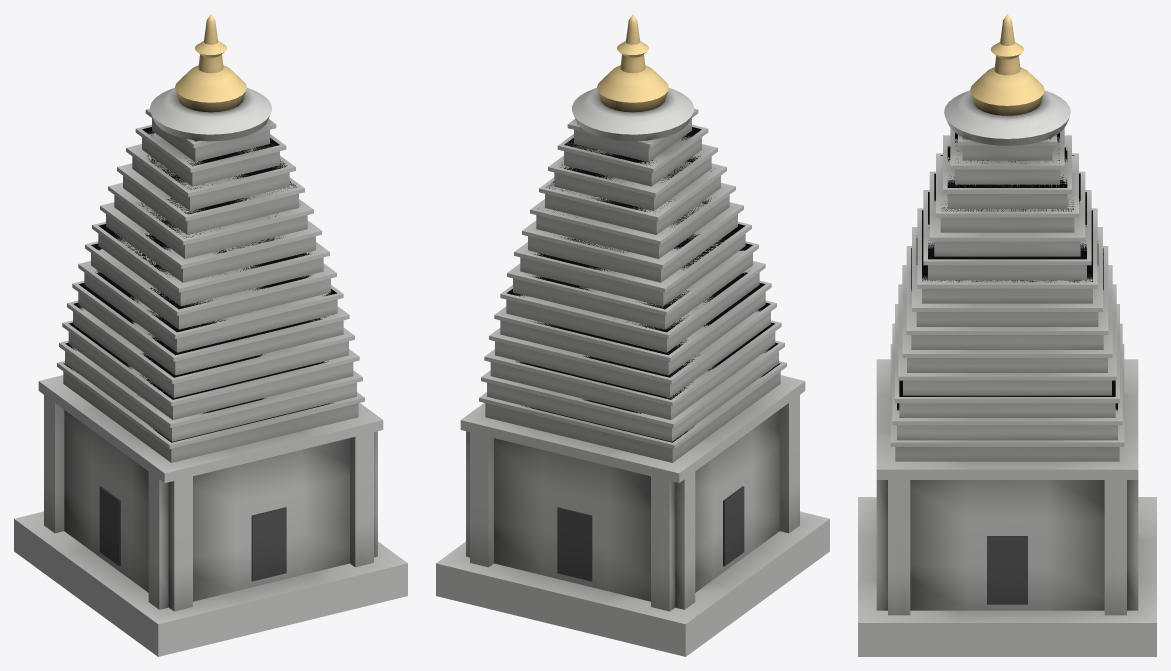
Rendered from swayambhu-shikhara.glb.
The picture shows the model from 3 angles, left to right: view 1: azimuth 30°, elevation 25°; view 2: azimuth 150°, elevation 25°; view 3: azimuth 270°, elevation 25°; orthographic projection. The views are drawn at different scales.
Visible parts, largest first — view 1: model-plaster, model-dark, model-gold; view 2: model-plaster, model-dark, model-gold; view 3: model-plaster, model-gold, model-dark.
Boxes of the visible parts, x1,y1,x2,y2 form: model-plaster: (14, 88, 407, 656); model-dark: (99, 486, 286, 581); model-gold: (175, 14, 246, 112); model-plaster: (436, 88, 829, 656); model-dark: (557, 486, 744, 581); model-gold: (597, 14, 668, 112); model-plaster: (858, 90, 1156, 656); model-gold: (970, 14, 1044, 115); model-dark: (987, 536, 1027, 604).
Size of the model in its own units: 8 by 17.13 by 8.
